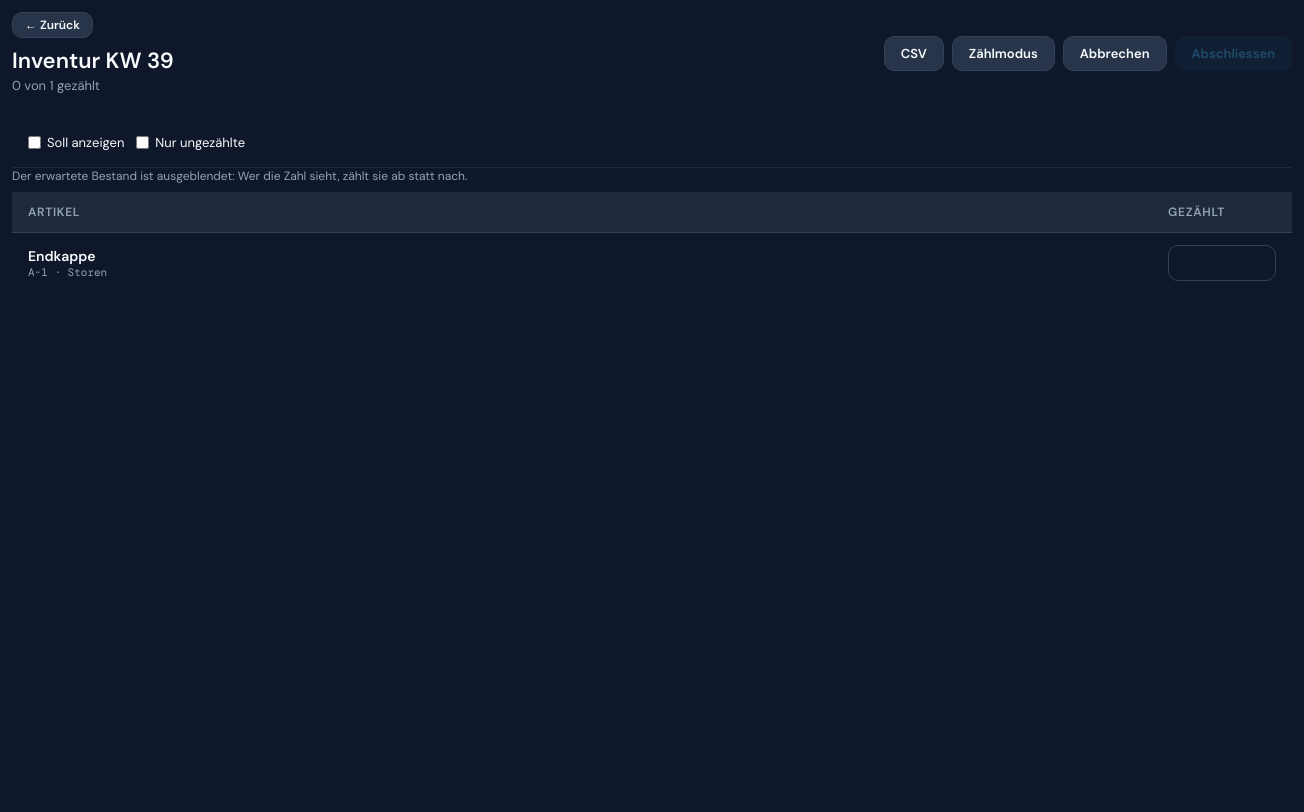
Test case: Zählmodus im Admin › schaltet zwischen Tabelle und Zählmodus hin und her
Check: the text "Soll anzeigen" is shown, box top-left (28, 134), bottom-right (124, 151)
Click the button "Zählmodus": (1003, 53) top-left (952, 36), bottom-right (1055, 70)
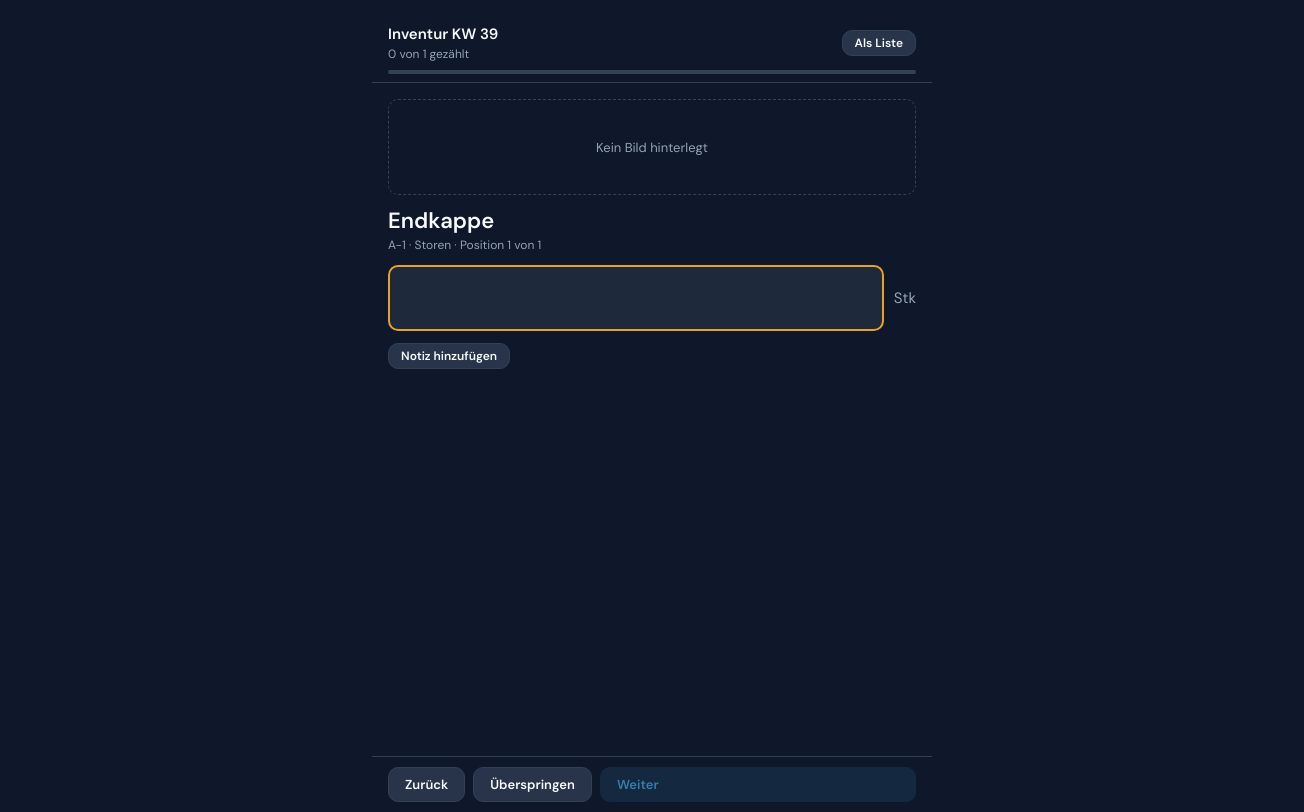
Check: the button "Als Liste" is shown
Check: the text "Soll anzeigen" is gone
Click the button "Als Liste": (879, 43) top-left (842, 30), bottom-right (916, 56)
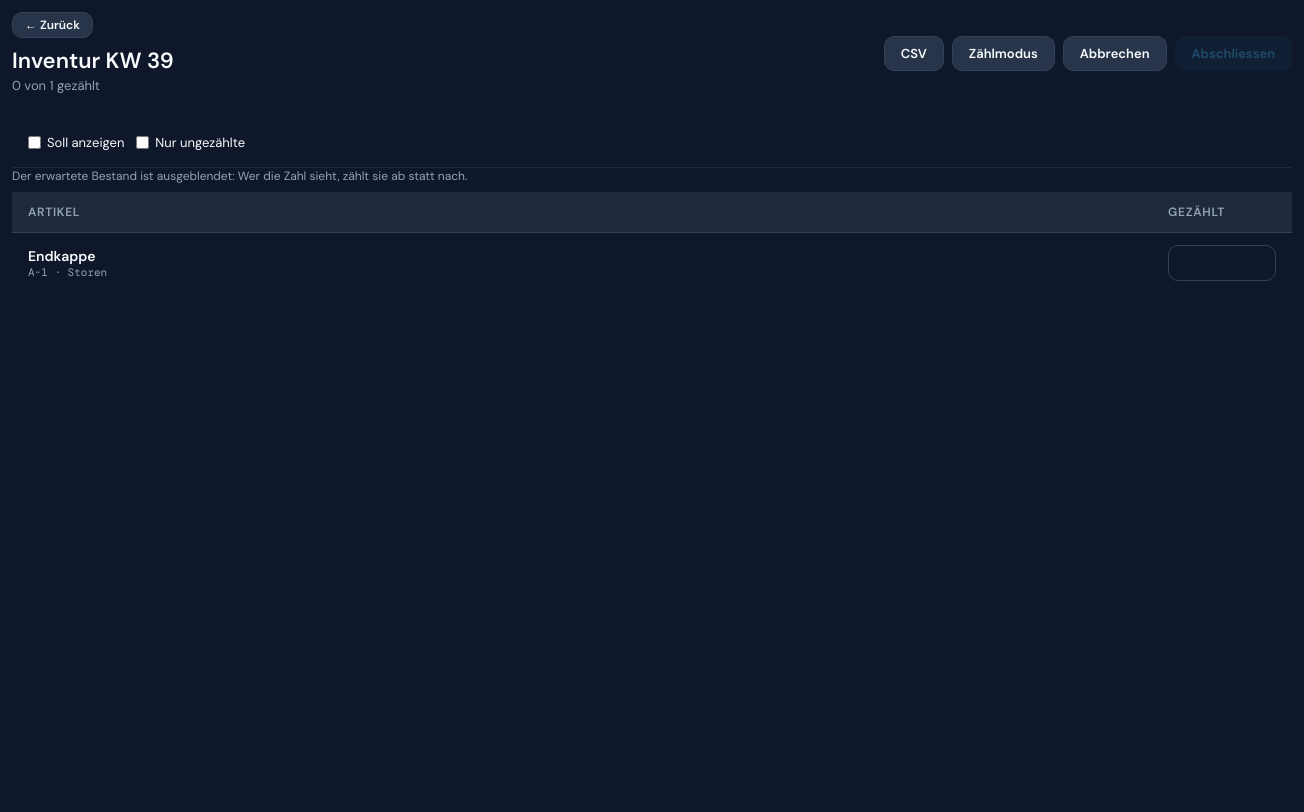
Check: the text "Soll anzeigen" is shown, box top-left (28, 134), bottom-right (124, 151)
